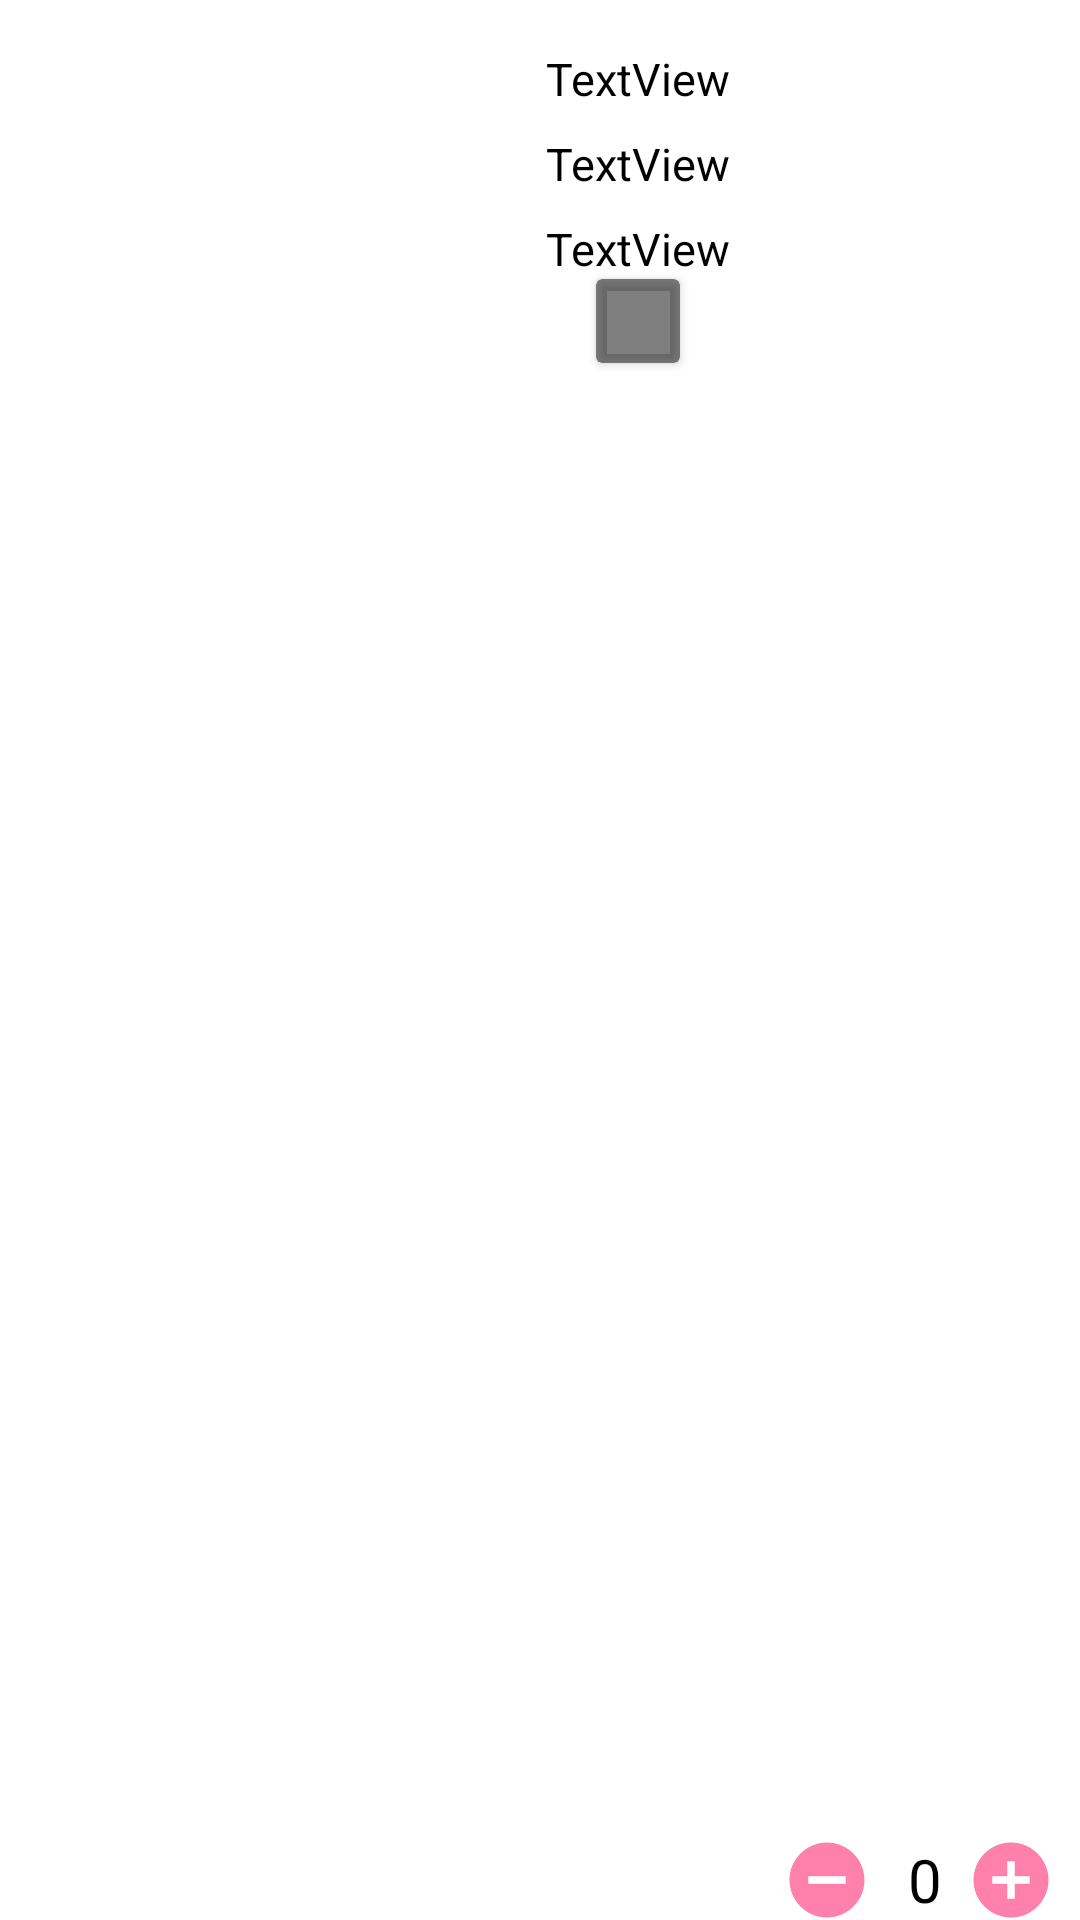

Where to tap for icons on this 1080px×1920px app screen, as point (x, y):
add circle: point (1011, 1880)
remove circle: point (827, 1880)
